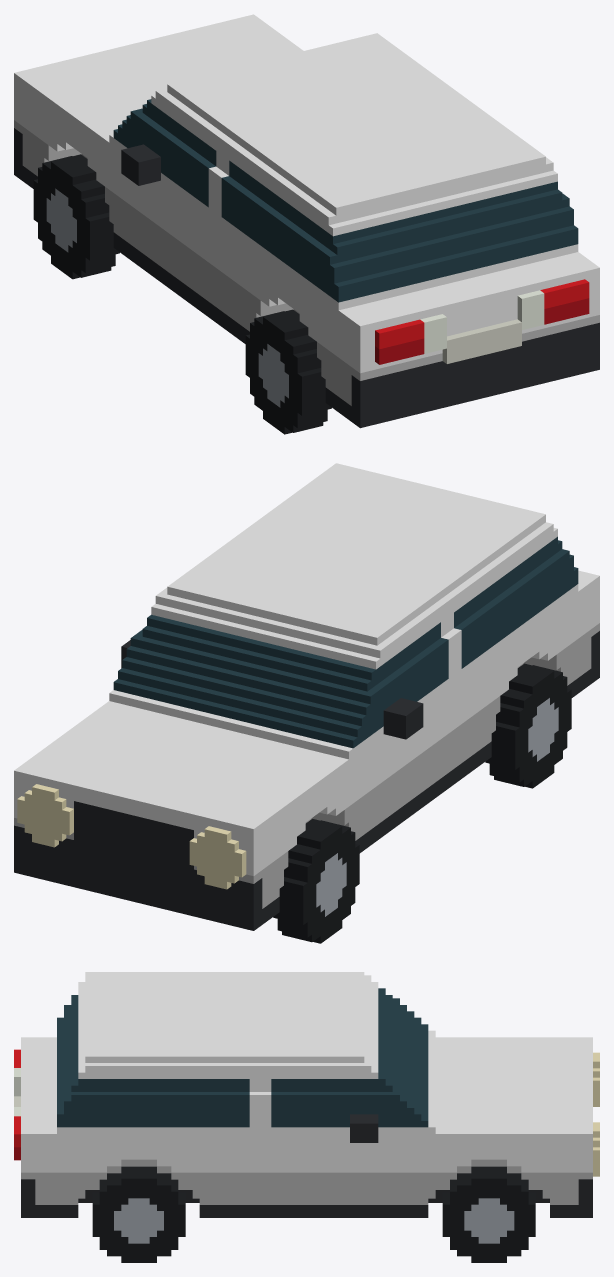
Rendered from rally_hatchback.glb.
3 views of the same model, one above another, from view 1: azimuth 30°, elevation 25°; view 2: azimuth 150°, elevation 25°; view 3: azimuth 270°, elevation 25° (orthographic). The views are drawn at different scales.
Parts seen in each view (by area): view 1: Body, WheelFL, WheelRL, BrakeLeft, ReverseRight, BrakeRight, ReverseLeft, TailLeft, TailRight; view 2: Body, WheelRL, WheelFL, HeadLeft, HeadRight; view 3: Body, WheelRR, WheelFR.
Part boxes in pixels (box(x1,y1,x2,y2)): Body: box(14, 14, 599, 428); WheelFL: box(33, 154, 119, 279); WheelRL: box(245, 309, 331, 434); BrakeLeft: box(375, 319, 424, 349); ReverseRight: box(517, 290, 544, 329); BrakeRight: box(540, 279, 589, 308); ReverseLeft: box(420, 314, 446, 353); TailLeft: box(375, 338, 424, 364); TailRight: box(544, 298, 589, 324); Body: box(14, 463, 599, 930); WheelRL: box(485, 663, 571, 788); WheelFL: box(273, 819, 359, 943); HeadLeft: box(189, 826, 246, 889); HeadRight: box(17, 784, 73, 847); Body: box(14, 972, 592, 1217); WheelRR: box(92, 1166, 185, 1262); WheelFR: box(442, 1166, 535, 1262).
Bounding box in the file's own units: 1.9 × 1.5 × 4.1.
